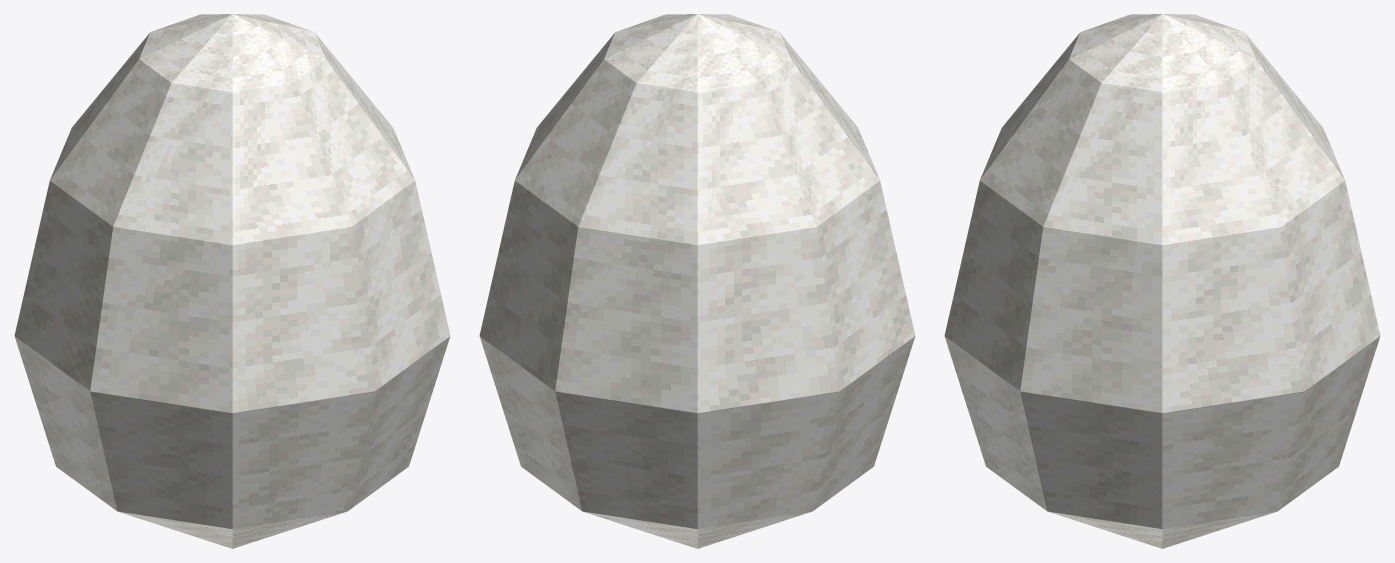
Rendered from ovo_cozido.glb.
3 renders of one model, left to right at view 1: azimuth 30°, elevation 25°; view 2: azimuth 150°, elevation 25°; view 3: azimuth 270°, elevation 25°, orthographic.
Parts seen in each view (by area): view 1: ovo_cozido; view 2: ovo_cozido; view 3: ovo_cozido.
Part boxes in pixels (bbox=[...]): ovo_cozido: bbox=[14, 14, 450, 548]; ovo_cozido: bbox=[479, 14, 915, 548]; ovo_cozido: bbox=[944, 14, 1380, 548].
Bounding box in the file's own units: 0.2037 × 0.28 × 0.2068.
Materials: 1 (1 with a texture image).
